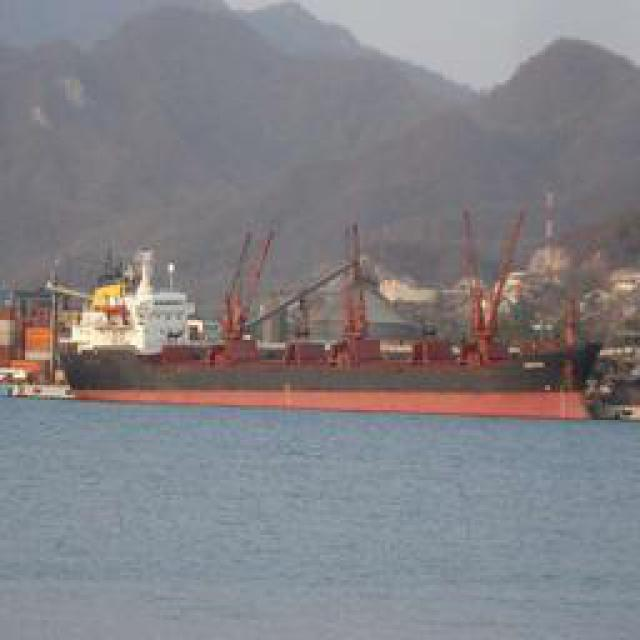Ship: (52, 247, 212, 385)
